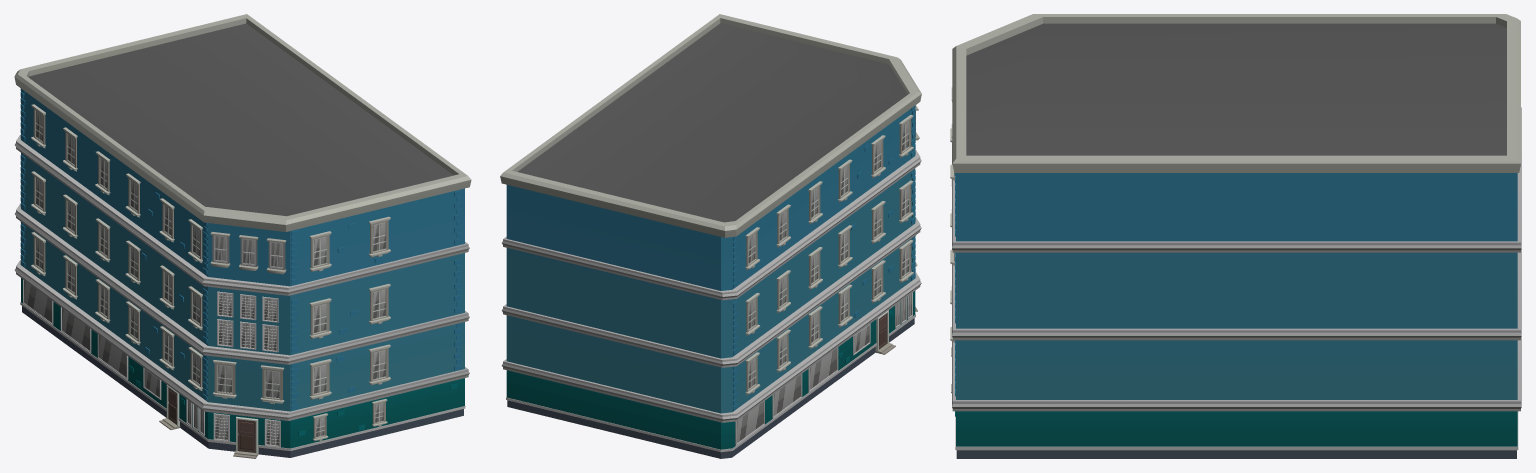
Rendered from Building_25_9_F.fbx.
The picture shows the model from 3 angles, left to right: view 1: azimuth 30°, elevation 25°; view 2: azimuth 150°, elevation 25°; view 3: azimuth 270°, elevation 25°; orthographic projection. The views are drawn at different scales.
Parts seen in each view (by area): view 1: Building_25_9_F; view 2: Building_25_9_F; view 3: Building_25_9_F.
Boxes of the visible parts, x1=… form: Building_25_9_F: x1=14, y1=14, x2=471, y2=458; Building_25_9_F: x1=500, y1=14, x2=921, y2=458; Building_25_9_F: x1=950, y1=14, x2=1521, y2=458.
Size of the model in its own units: 1683 by 1596 by 2729.
